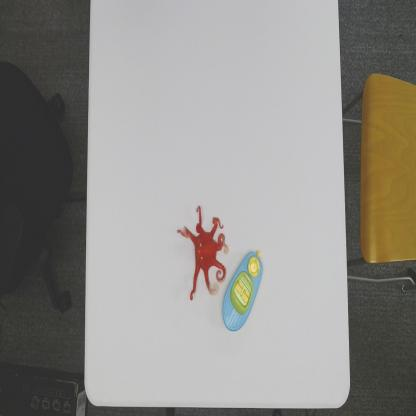Boat: (223, 250, 261, 331)
Octopus: (178, 204, 227, 300)
